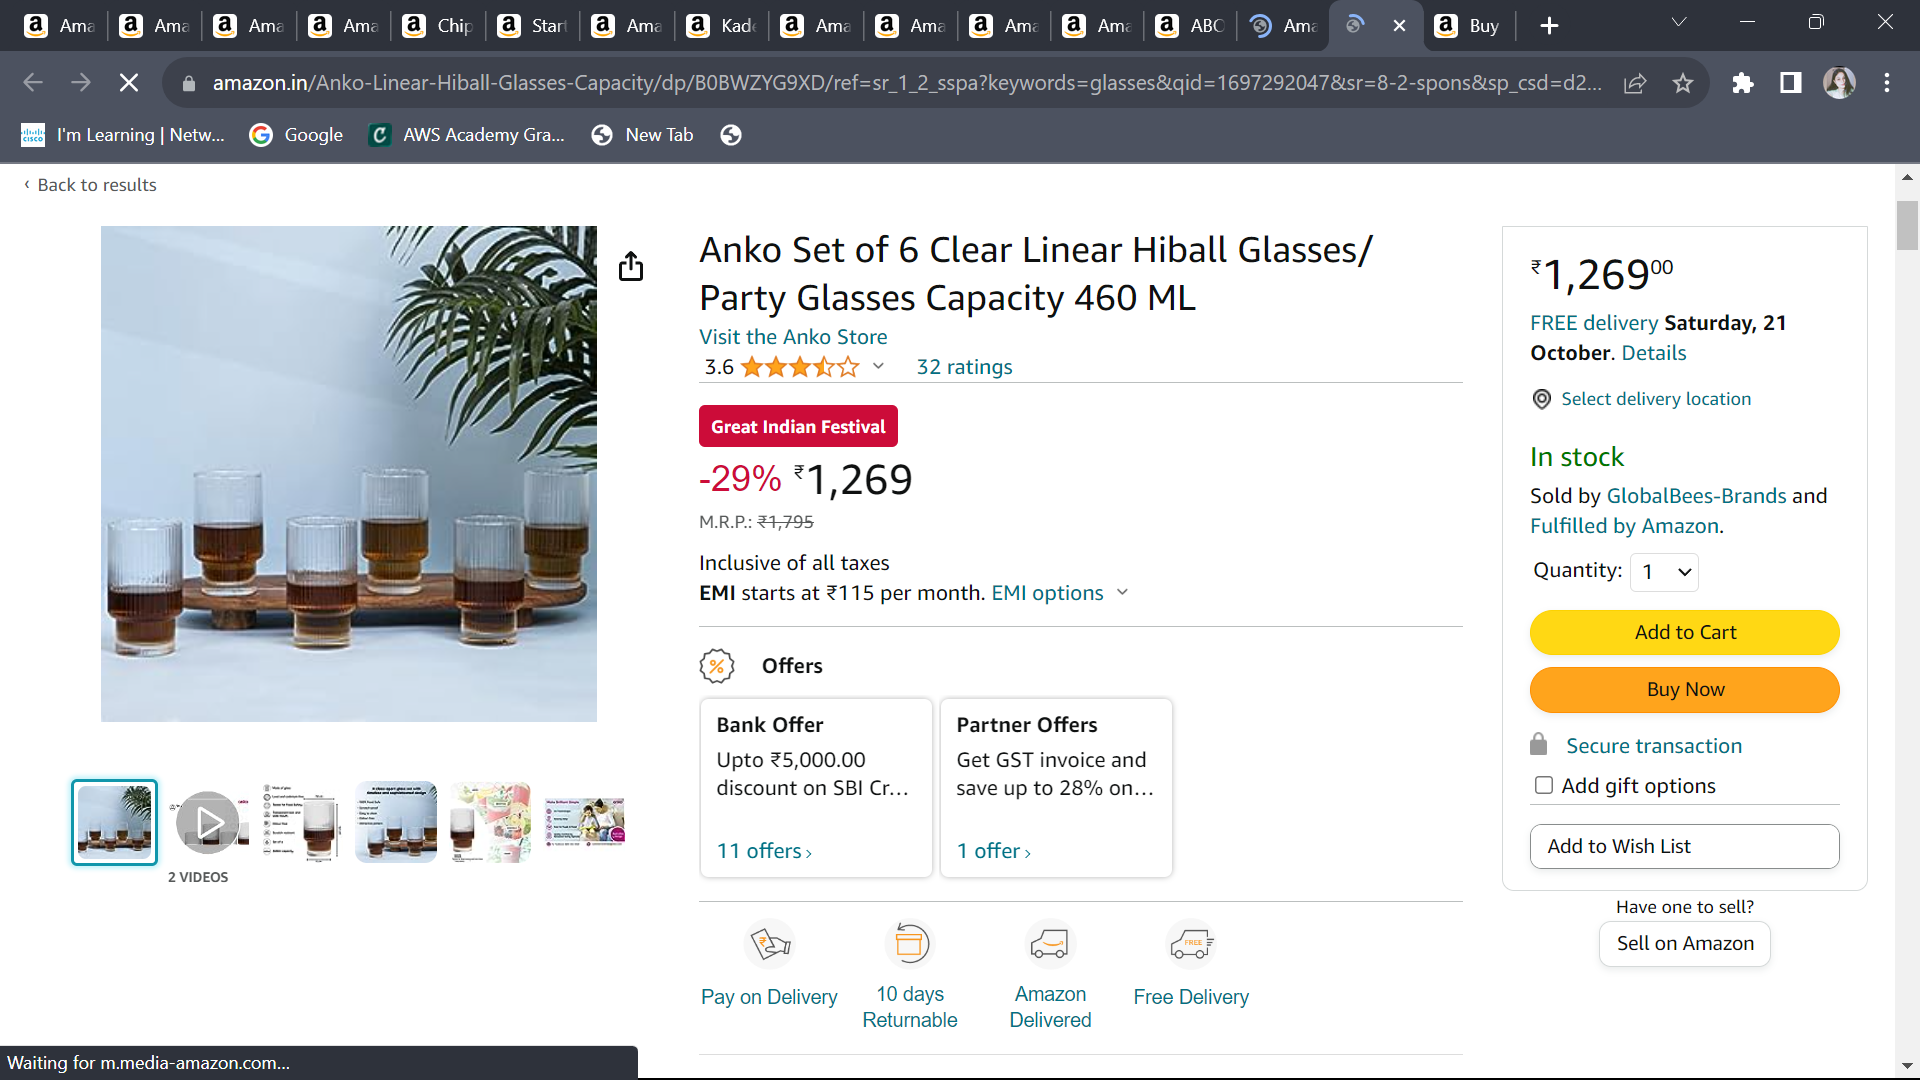Image: (42, 218, 624, 732)
Paragraph: (675, 640, 1200, 878), (687, 208, 1389, 316), (1516, 729, 1878, 884), (1523, 597, 1863, 720), (1523, 442, 1849, 543), (687, 546, 1147, 615), (1514, 305, 1807, 364), (687, 448, 952, 508), (1523, 233, 1729, 302), (1532, 376, 1780, 430), (690, 359, 1033, 397), (1523, 550, 1724, 591), (696, 323, 919, 355), (671, 508, 857, 531)
